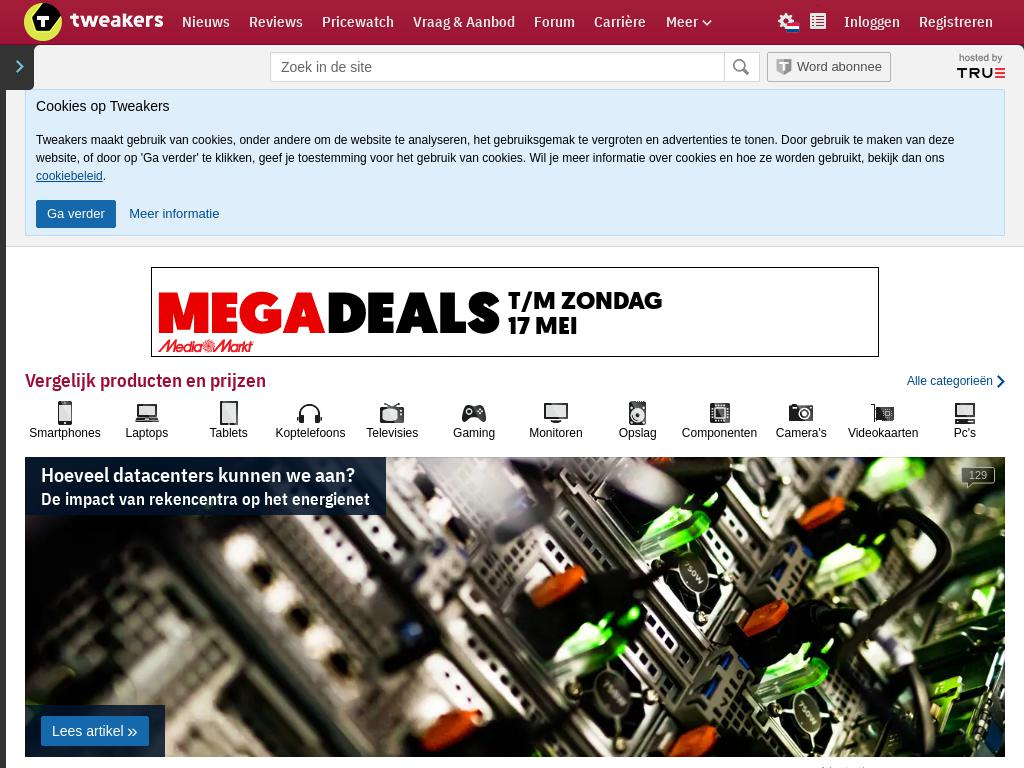button: (25, 457, 1005, 764), (404, 0, 524, 44), (910, 0, 1002, 44), (313, 0, 403, 44), (766, 52, 892, 82), (106, 400, 187, 442), (188, 400, 269, 442), (270, 400, 351, 442), (352, 400, 433, 442), (434, 400, 515, 442), (515, 400, 596, 442), (597, 400, 678, 442), (679, 400, 760, 442), (761, 400, 842, 442), (843, 400, 924, 442), (924, 400, 1005, 442), (25, 400, 105, 442), (835, 0, 909, 44), (41, 716, 149, 746), (240, 0, 312, 44), (585, 0, 655, 44), (173, 0, 239, 44), (657, 0, 721, 44), (525, 0, 584, 44), (129, 200, 220, 228), (36, 200, 116, 228), (770, 5, 802, 37), (802, 5, 834, 37), (961, 467, 995, 489)
field: (271, 53, 724, 81), (724, 53, 759, 81)
heading: (36, 97, 994, 116), (41, 461, 370, 487), (25, 367, 100, 442), (206, 367, 266, 442), (100, 365, 206, 392)
iframe: (151, 267, 879, 357)
image: (25, 457, 1005, 764), (16, 0, 172, 44), (6, 45, 34, 90), (957, 53, 1005, 78)
link: (41, 487, 370, 509), (906, 374, 993, 388), (36, 169, 103, 183)
text: (36, 133, 954, 165), (36, 133, 778, 147), (529, 151, 944, 165), (814, 766, 875, 768), (102, 169, 106, 183)
